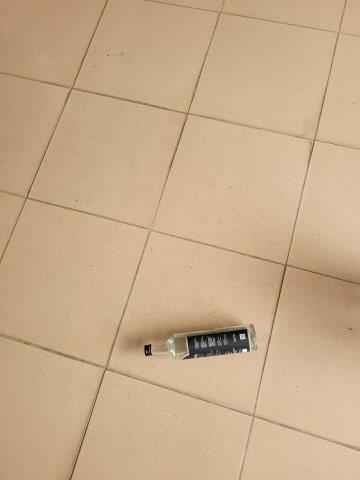botolkaca: (144, 323, 257, 360)
